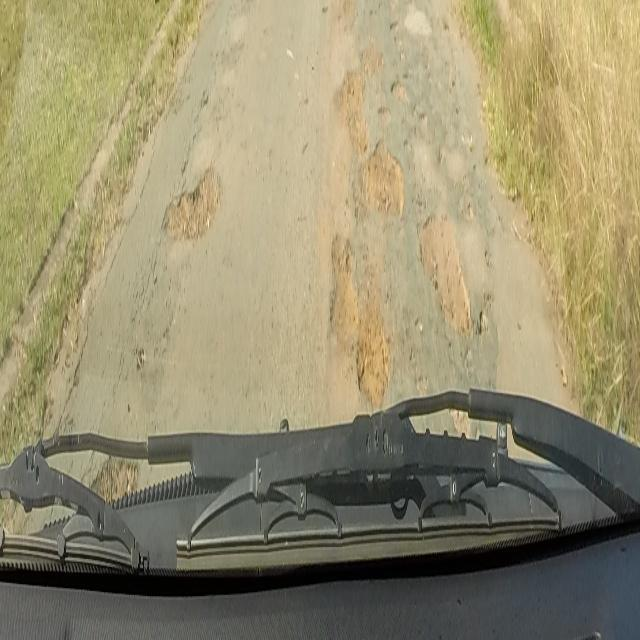pothole: (328, 210, 393, 418), (416, 212, 474, 340), (166, 154, 220, 244), (357, 141, 405, 218), (333, 58, 368, 156), (88, 446, 140, 496), (390, 72, 408, 104), (390, 16, 400, 34)
